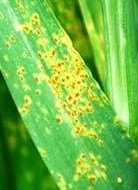Leaf Rust: (25, 32, 103, 149)
